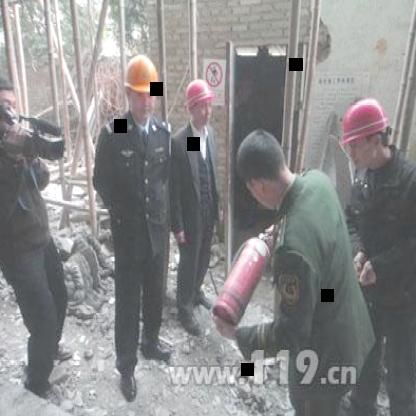helmet: (330, 89, 396, 177), (120, 49, 164, 127), (182, 74, 216, 128)
